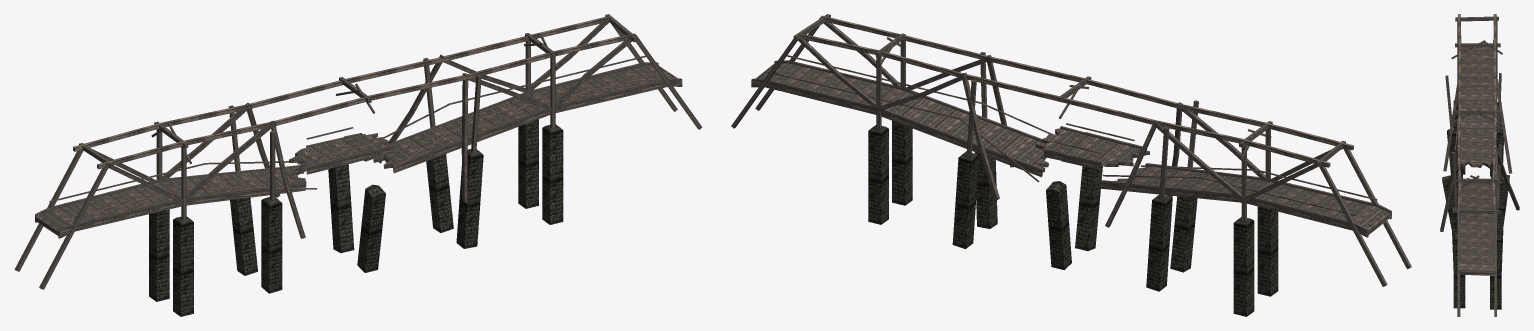
Rendered from Brdg02xb.glb.
The picture shows the model from 3 angles, left to right: view 1: azimuth 30°, elevation 25°; view 2: azimuth 150°, elevation 25°; view 3: azimuth 270°, elevation 25°; orthographic projection. The views are drawn at different scales.
Parts seen in each view (by area): view 1: _Brdg02xb; view 2: _Brdg02xb; view 3: _Brdg02xb.
Boxes of the visible parts, x1,y1,x2,y2 form: _Brdg02xb: [14, 14, 702, 316]; _Brdg02xb: [731, 14, 1411, 316]; _Brdg02xb: [1440, 14, 1519, 316].
Size of the model in its own units: 99.91 by 26.01 by 13.88.
2 materials, 2 textured.
